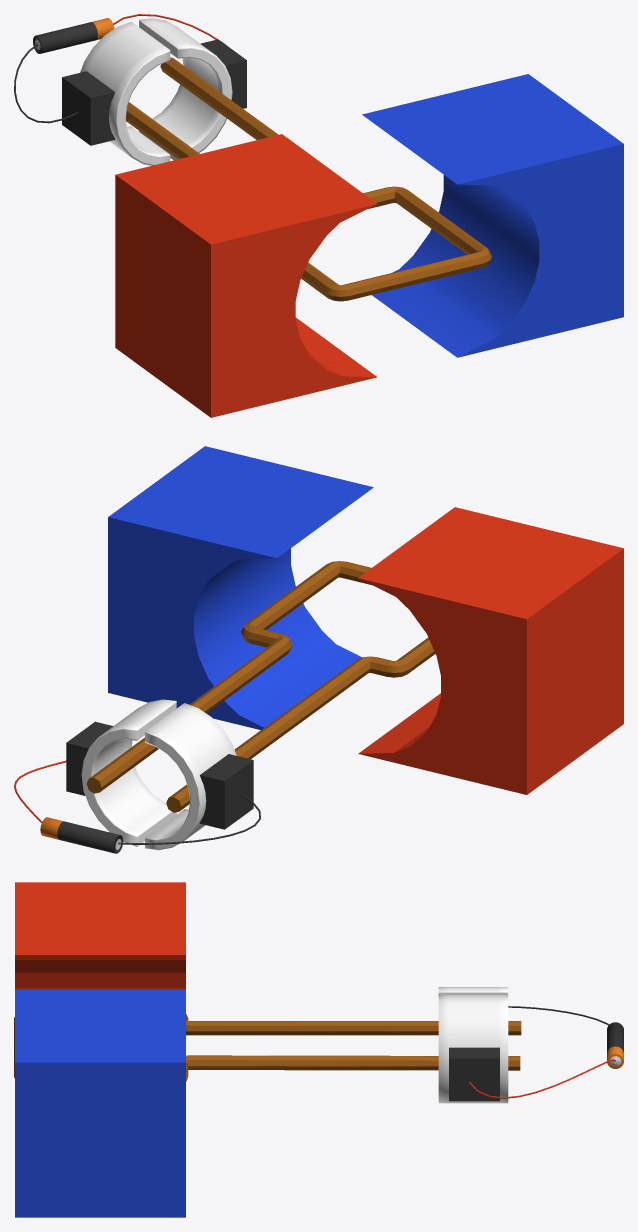
3 views of the same model, one above another, from view 1: azimuth 30°, elevation 25°; view 2: azimuth 150°, elevation 25°; view 3: azimuth 270°, elevation 25° (orthographic). The views are drawn at different scales.
Parts seen in each view (by area): view 1: Red.001, Blue.001, magnet2.002, bar.001, black2.001, Cylinder.001, black1.001; view 2: Red.001, Blue.001, magnet2.002, bar.001, black2.001, Cylinder.001, black1.001; view 3: Blue.001, Red.001, bar.001, magnet2.002, black1.001, Cylinder.001.
Part boxes in pixels (x1,y1,x2,y2): Red.001: [115, 134, 376, 417]; Blue.001: [362, 74, 623, 357]; magnet2.002: [80, 18, 232, 165]; bar.001: [126, 57, 491, 301]; black2.001: [62, 71, 115, 145]; Cylinder.001: [33, 18, 114, 53]; black1.001: [200, 39, 246, 108]; Red.001: [358, 507, 623, 794]; Blue.001: [108, 446, 373, 729]; magnet2.002: [81, 699, 236, 850]; bar.001: [86, 561, 435, 812]; black2.001: [199, 754, 253, 829]; Cylinder.001: [40, 817, 123, 853]; black1.001: [66, 721, 113, 795]; Blue.001: [15, 990, 185, 1217]; Red.001: [15, 882, 185, 989]; bar.001: [14, 1014, 521, 1081]; magnet2.002: [438, 987, 508, 1103]; black1.001: [449, 1047, 499, 1101]; Cylinder.001: [607, 1022, 623, 1068].
Size of the model in its own units: 55.04 by 22.07 by 78.76.
